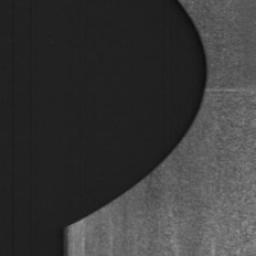Crescent gap: (68, 0, 208, 226)
